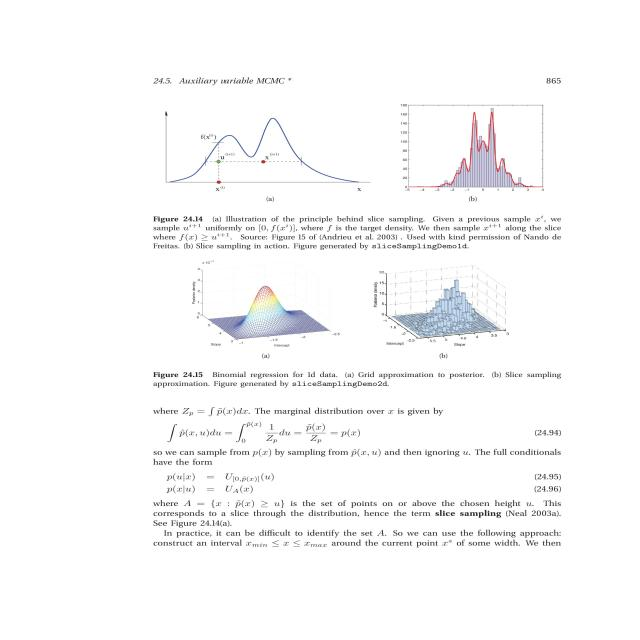diagram: (119, 95, 599, 255), (118, 257, 600, 402)
